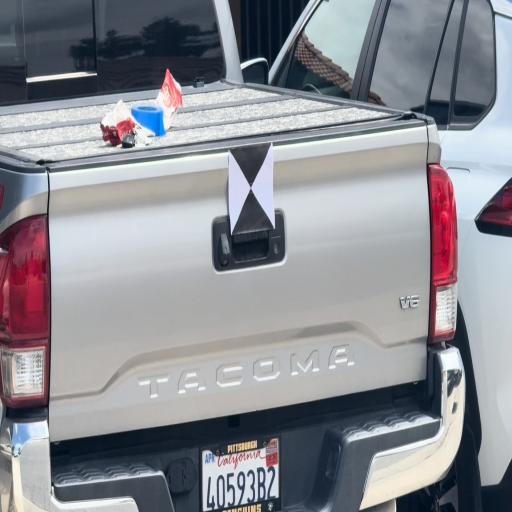target: (229, 142, 275, 232)
